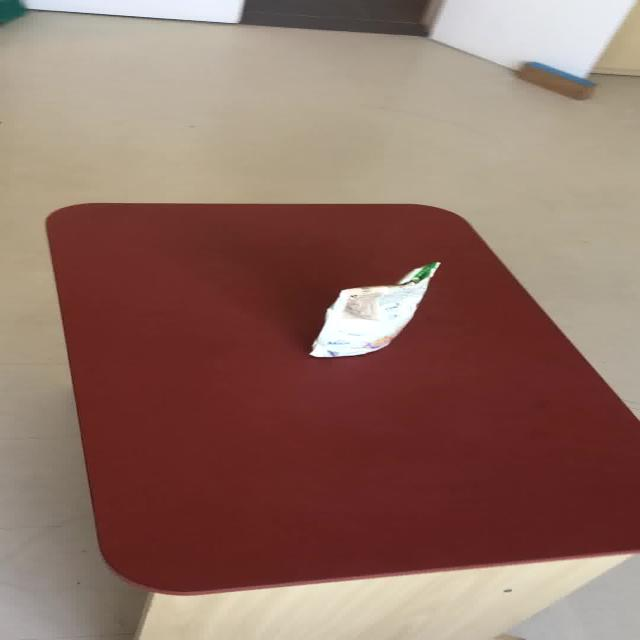corn flakes: (306, 260, 441, 358)
